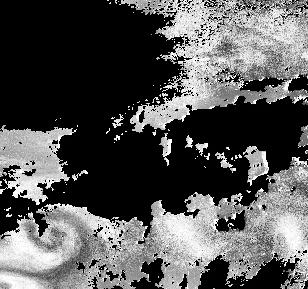CE: (25, 208, 91, 260)
